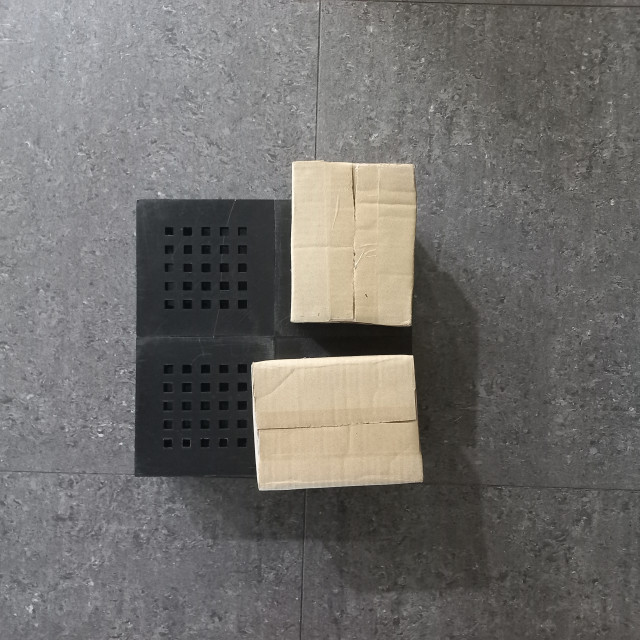box: (249, 350, 426, 494), (215, 148, 390, 287), (288, 157, 419, 329), (224, 314, 349, 481)
